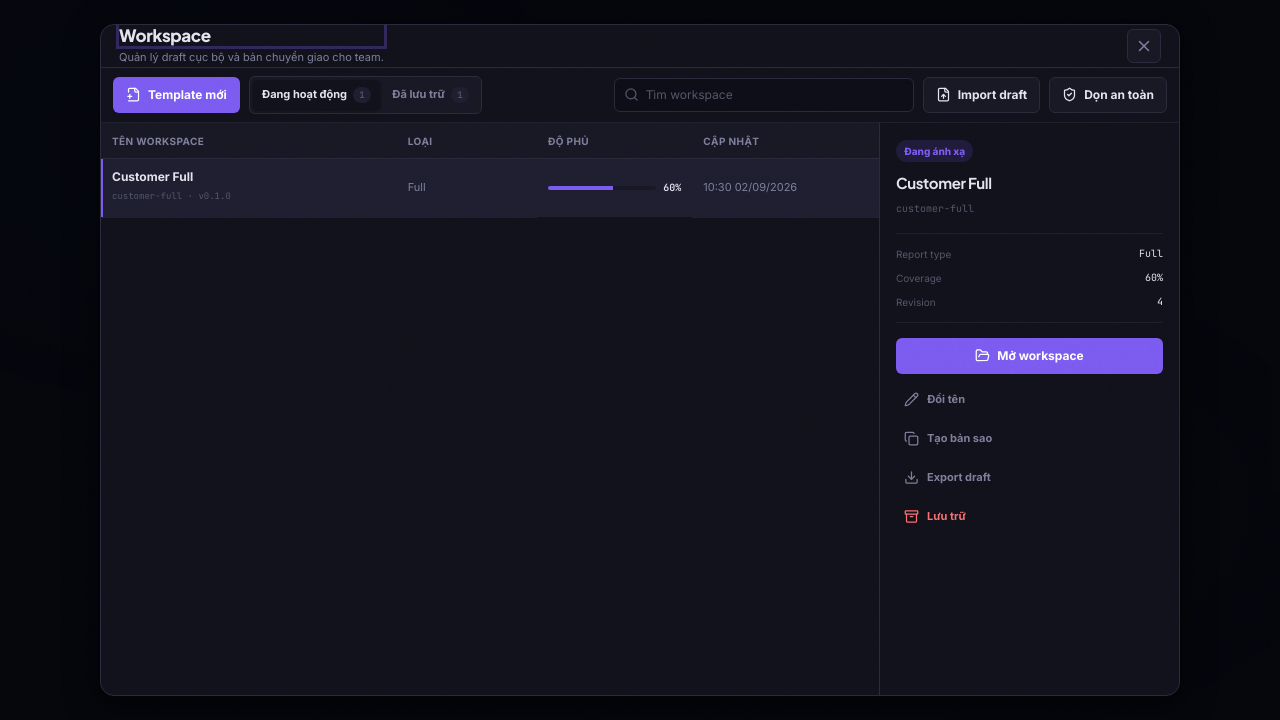
Test: Template Studio workspace manager › previews retention before applying a recoverable quarantine
Step 1. Click the button "Dọn an toàn" → (1108, 95), box [1049,77,1167,113]
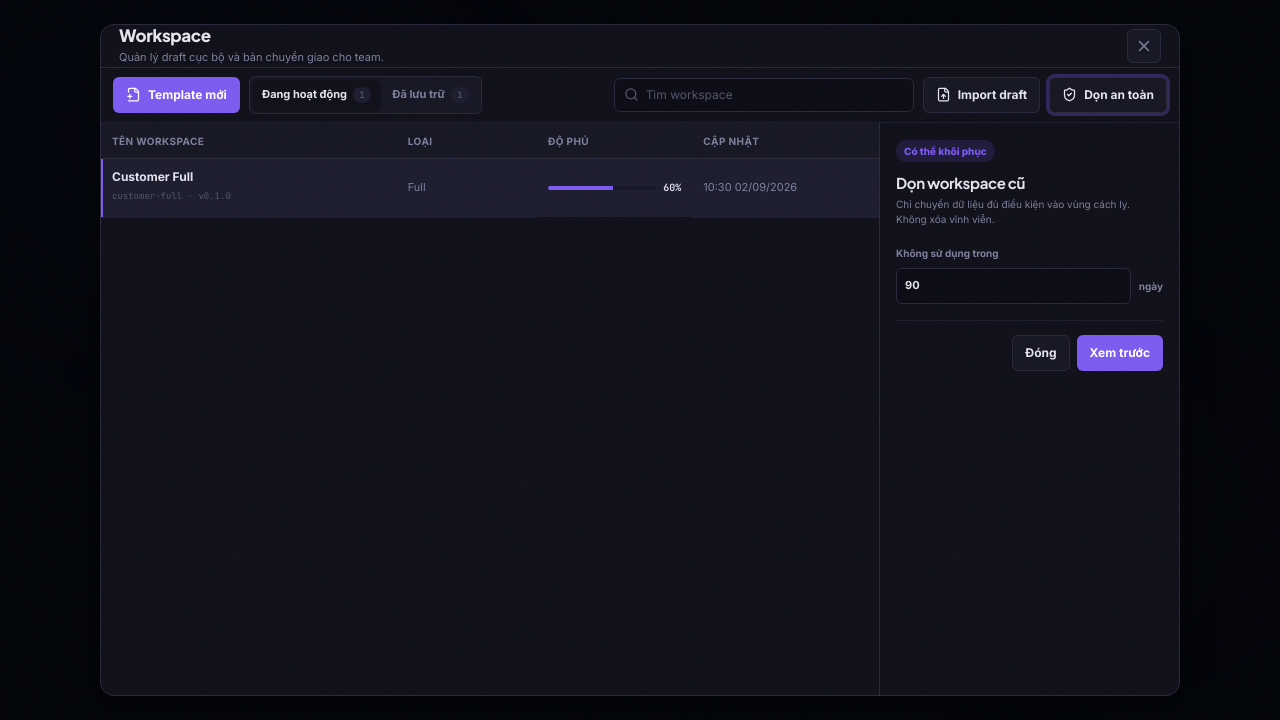
Expected: the text "Không xóa vĩnh viễn." is shown, [896,198,1130,225]
Step 2. Click the button "Xem trước" → (1120, 353), box [1077,335,1163,371]
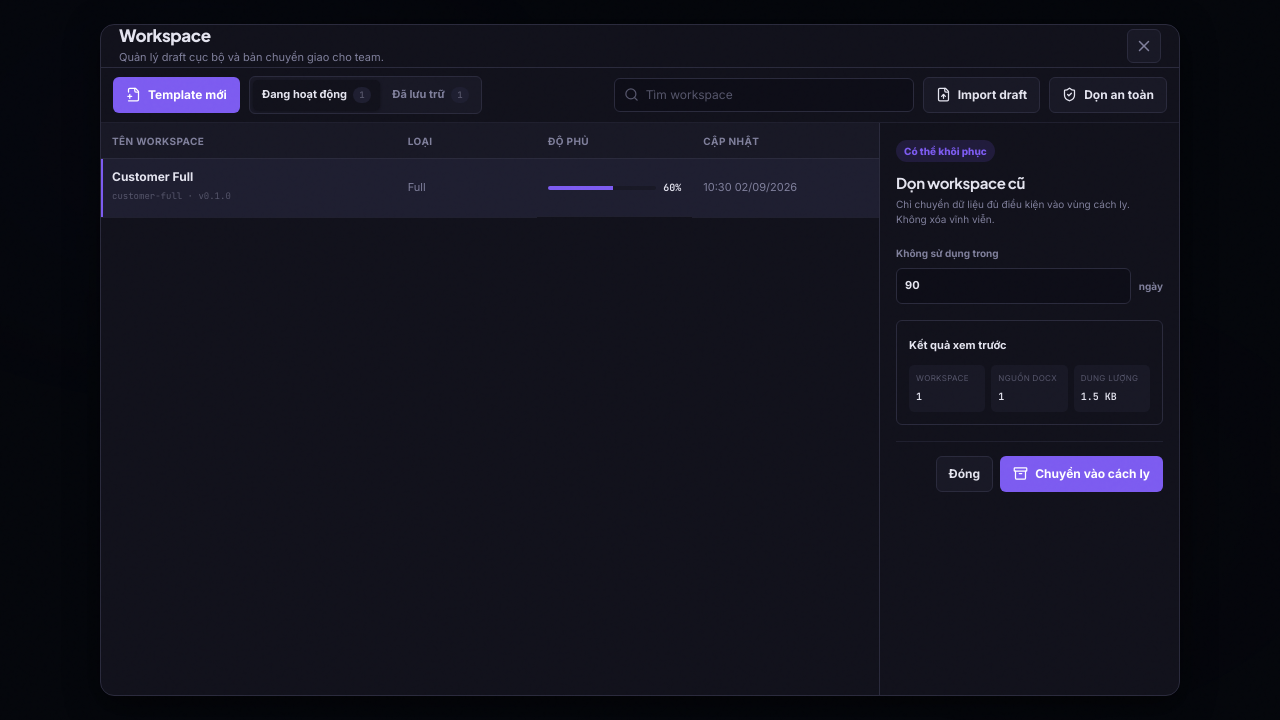
Expected: the text "1.5 KB" is shown, [1081,390,1117,403]
Step 3. Click the button "Chuyển vào cách ly" → (1082, 474), box [1000,456,1163,492]
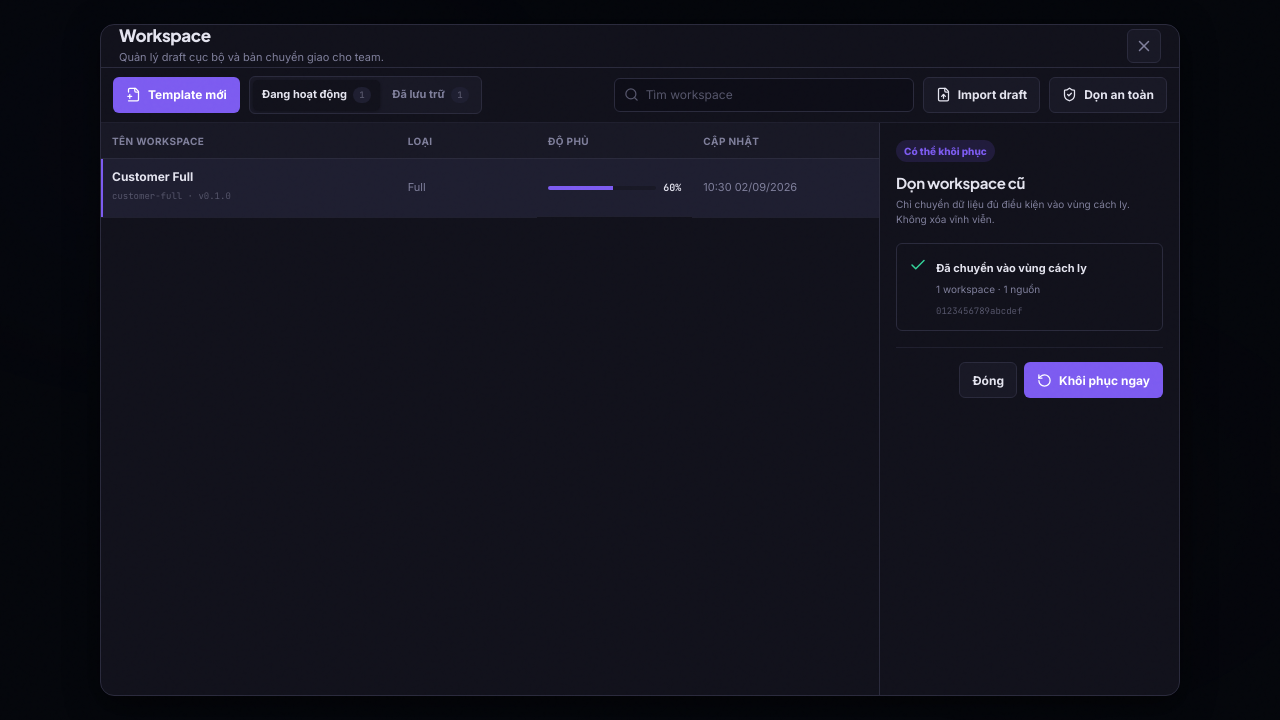
Expected: the text "Đã chuyển vào vùng cách ly" is shown, [936,261,1087,275]
